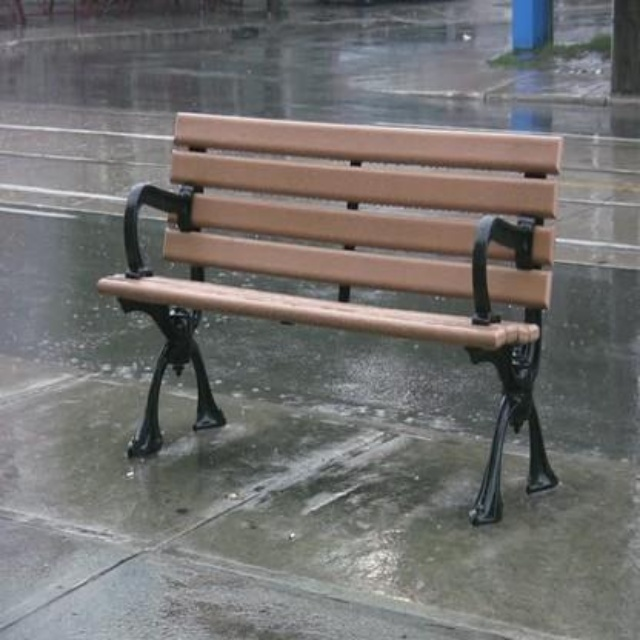obstacle: (85, 97, 594, 528)
